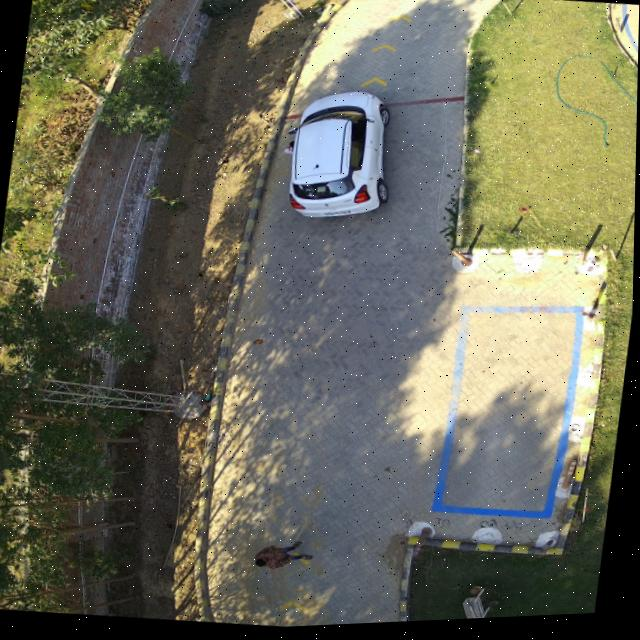car: (289, 93, 391, 220)
